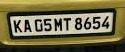0: (34, 18, 43, 33)
4: (102, 15, 110, 29)
5: (43, 17, 52, 33), (92, 15, 101, 30)
6: (84, 17, 92, 32)
8: (74, 17, 84, 30)
A: (24, 19, 33, 33)
K: (12, 18, 23, 32)
M: (53, 17, 64, 32)
T: (63, 16, 73, 32)
